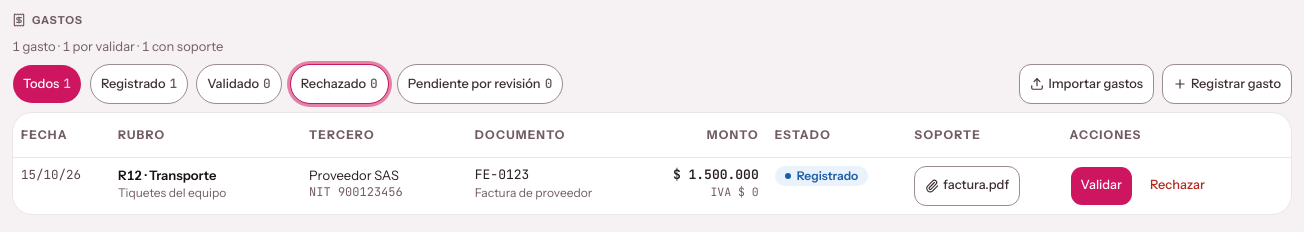
Scenario: ProjectGastos › filter chips › says so when a filter has no expenses, and is reachable with the keyboard
Check: the element with test id "gastos-lista" is shown, box [12,112,1292,214]
Click the button "Rechazado 0" at (339, 84), box [290,64,389,104]
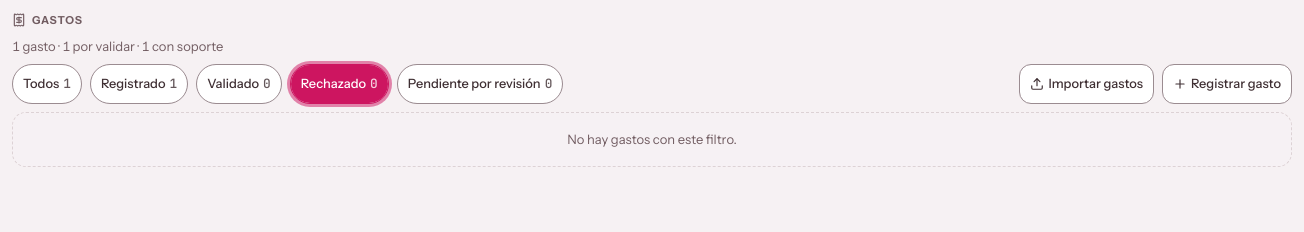
Check: the text "No hay gastos con este filtro." is shown, box [567,129,737,150]
Check: the row with test id "gasto-fila" is gone
